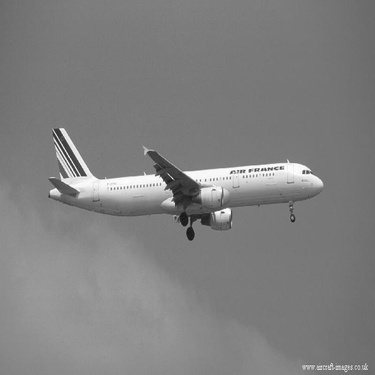airplane: (38, 117, 327, 245)
